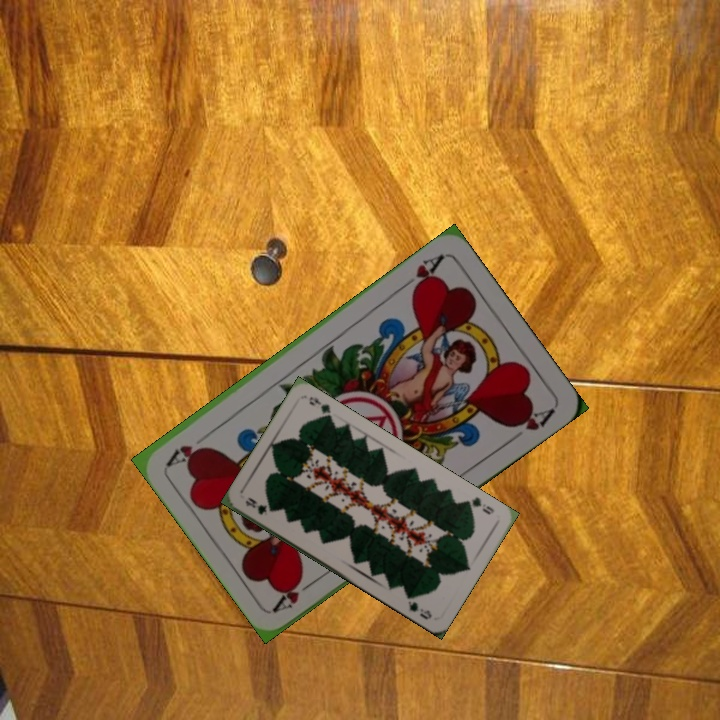G9: (460, 493, 497, 517), (241, 493, 269, 518)
HA: (396, 250, 447, 296), (270, 573, 322, 615)
